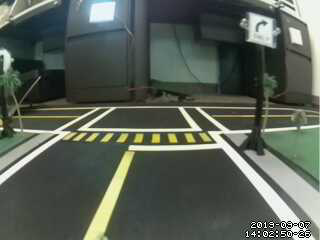Right_only_sign: (248, 13, 278, 47)
